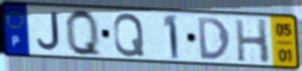1: (162, 13, 181, 61)
D: (195, 16, 232, 61)
H: (233, 17, 272, 65)
J: (35, 11, 62, 52)
Q: (63, 7, 104, 59), (112, 12, 147, 58)
